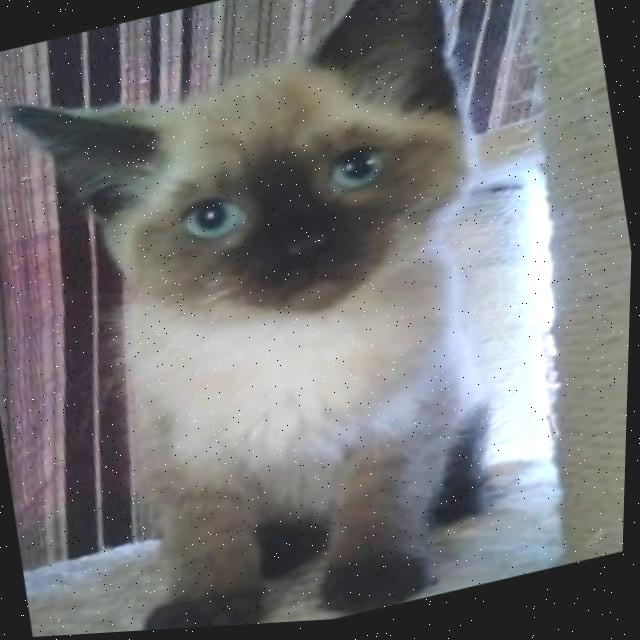Siamese: (0, 0, 559, 640)
